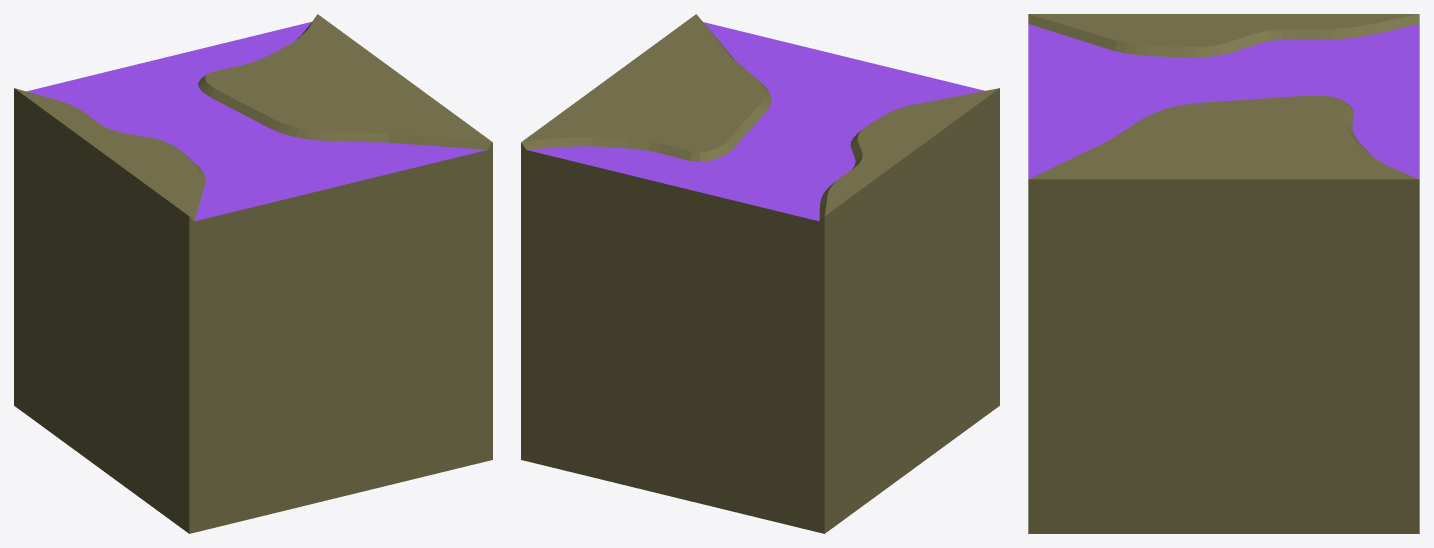
File: tile_toxic_3e_02.fbx
3 views of the same model, side by side, from view 1: azimuth 30°, elevation 25°; view 2: azimuth 150°, elevation 25°; view 3: azimuth 270°, elevation 25° (orthographic). The views are drawn at different scales.
Visible parts, largest first — view 1: tile_toxic_3e_02; view 2: tile_toxic_3e_02; view 3: tile_toxic_3e_02.
Part boxes in pixels (left/top/right/bottom): tile_toxic_3e_02: left=14, top=14, right=492, bottom=533; tile_toxic_3e_02: left=521, top=14, right=999, bottom=533; tile_toxic_3e_02: left=1028, top=14, right=1419, bottom=533.
Bounding box in the file's own units: 100 × 100 × 100.
